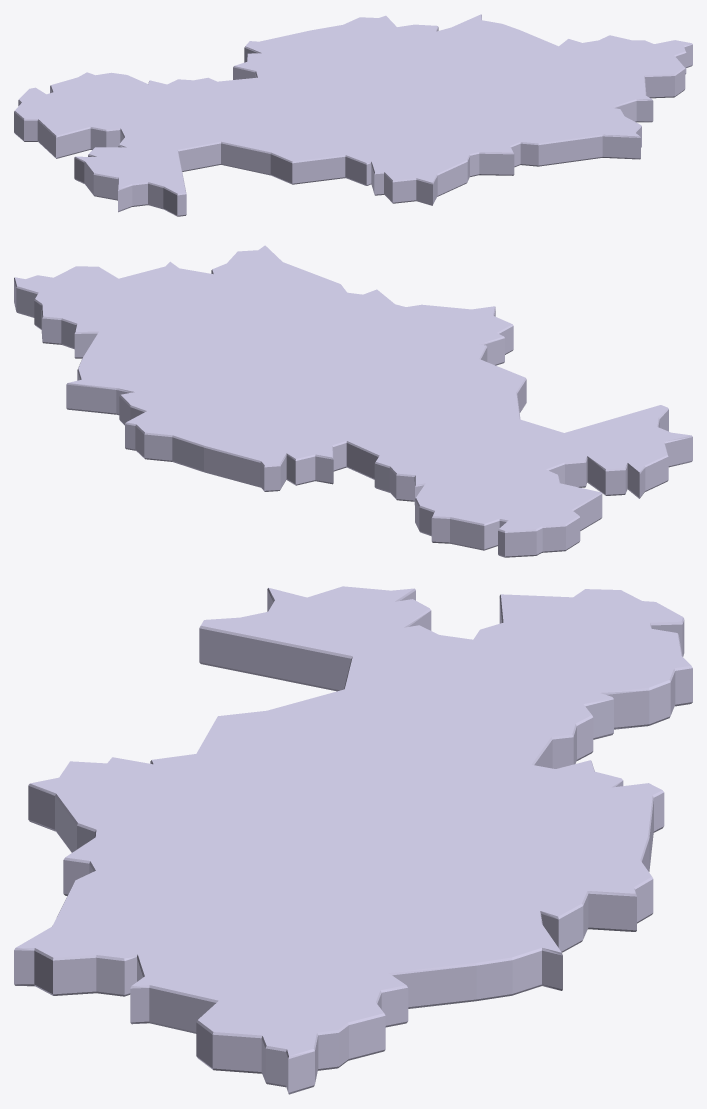
The model's file is KAZ.glb.
3 views of the same model, one above another, from view 1: azimuth 30°, elevation 25°; view 2: azimuth 150°, elevation 25°; view 3: azimuth 270°, elevation 25° (orthographic). The views are drawn at different scales.
Size of the model in its own units: 1.79 by 0.068 by 1.09.
